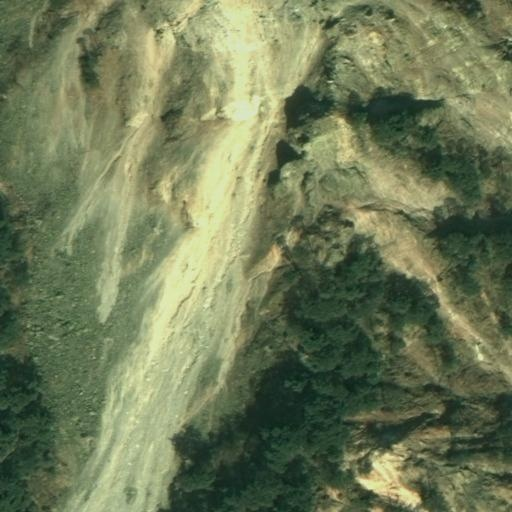landslide: (42, 1, 328, 512)
